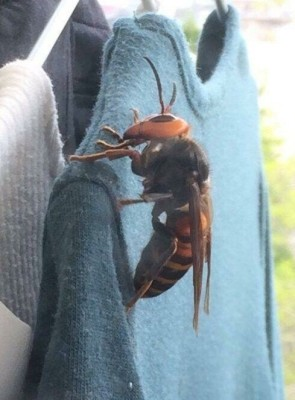asian_giant_hornet: (107, 101, 213, 300)
